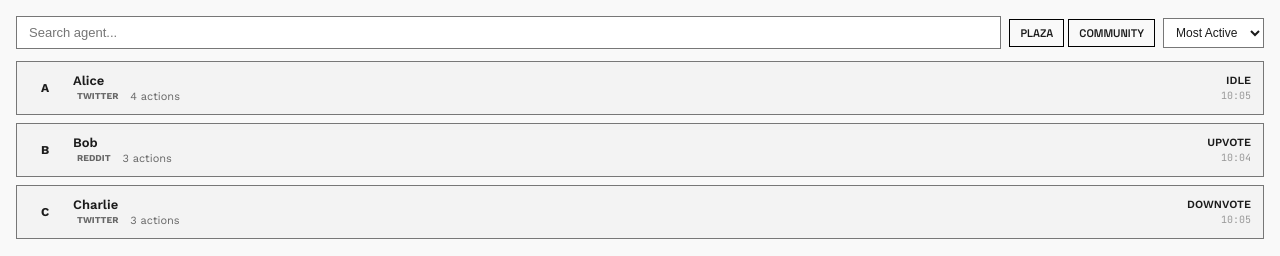
it: SimAgentsTab › filters by name
Type "ali" into the field with placeholder "Search agent...".
click(509, 32); type("ali")  # box [16, 16, 1001, 49]
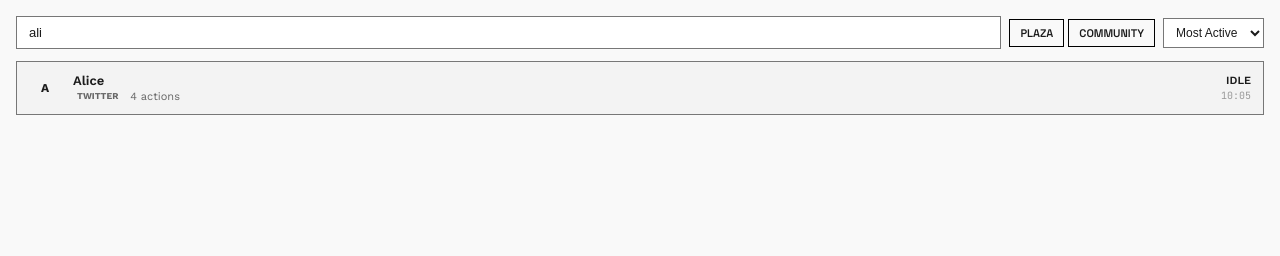
Expected: the text "Alice" is shown, [73, 73, 104, 88]
Expected: the text "Bob" is gone
